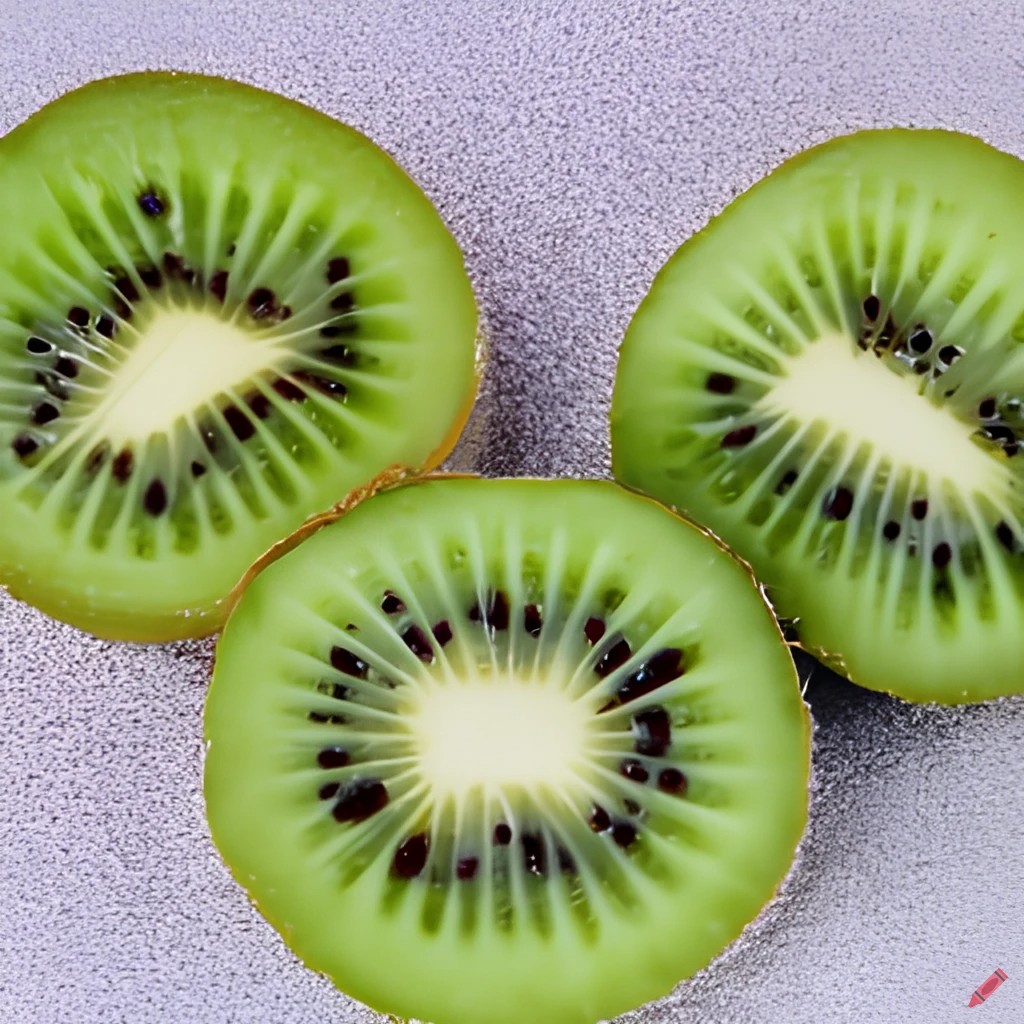Kiwi: (183, 461, 844, 1024)
